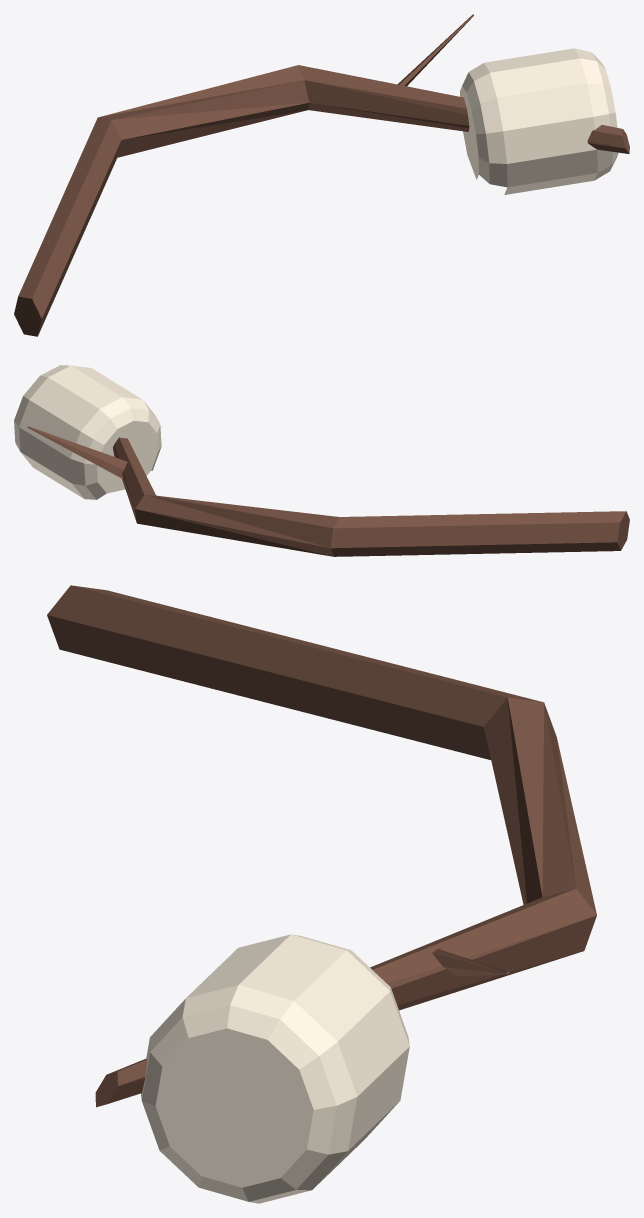
Rendered from roasting-stick.glb.
The picture shows the model from 3 angles, top to bottom: view 1: azimuth 30°, elevation 25°; view 2: azimuth 150°, elevation 25°; view 3: azimuth 270°, elevation 25°; orthographic projection. The views are drawn at different scales.
Visible parts, largest first — view 1: stick, marshmallow; view 2: stick, marshmallow; view 3: stick, marshmallow.
Part boxes in pixels (x1=…): stick: x1=14, y1=14, x2=629, y2=336; marshmallow: x1=460, y1=48, x2=618, y2=194; stick: x1=27, y1=426, x2=629, y2=556; marshmallow: x1=14, y1=365, x2=161, y2=499; stick: x1=47, y1=585, x2=596, y2=1107; marshmallow: x1=140, y1=934, x2=409, y2=1203.
Bounding box in the file's own units: 1 × 0.1901 × 0.4322.
